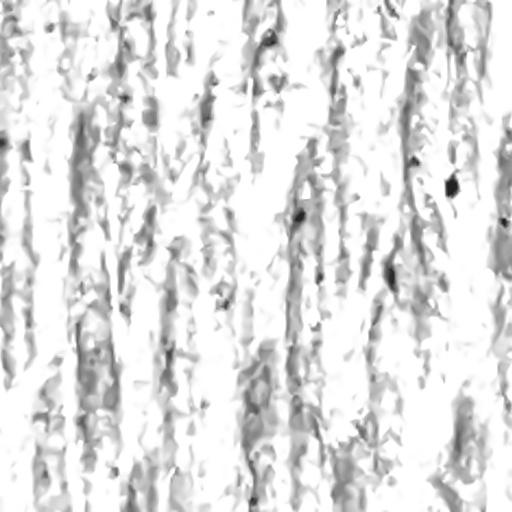egg: (445, 174, 459, 198), (385, 262, 395, 291)
